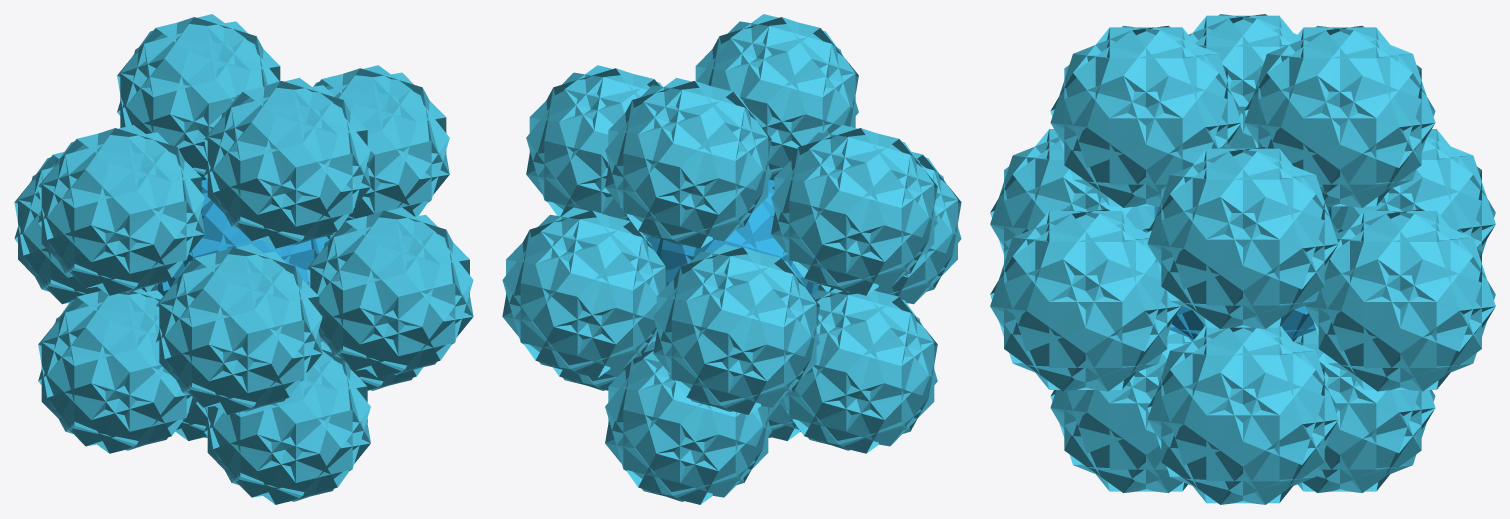
The model's file is fractalrhombicosahedron1.glb.
The picture shows the model from 3 angles, left to right: view 1: azimuth 30°, elevation 25°; view 2: azimuth 150°, elevation 25°; view 3: azimuth 270°, elevation 25°; orthographic projection. The views are drawn at different scales.
Bounding box in the file's own units: 10.78 × 10.78 × 10.78.
